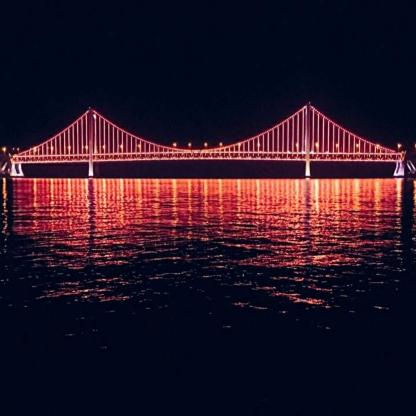other: (24, 158, 390, 237)
